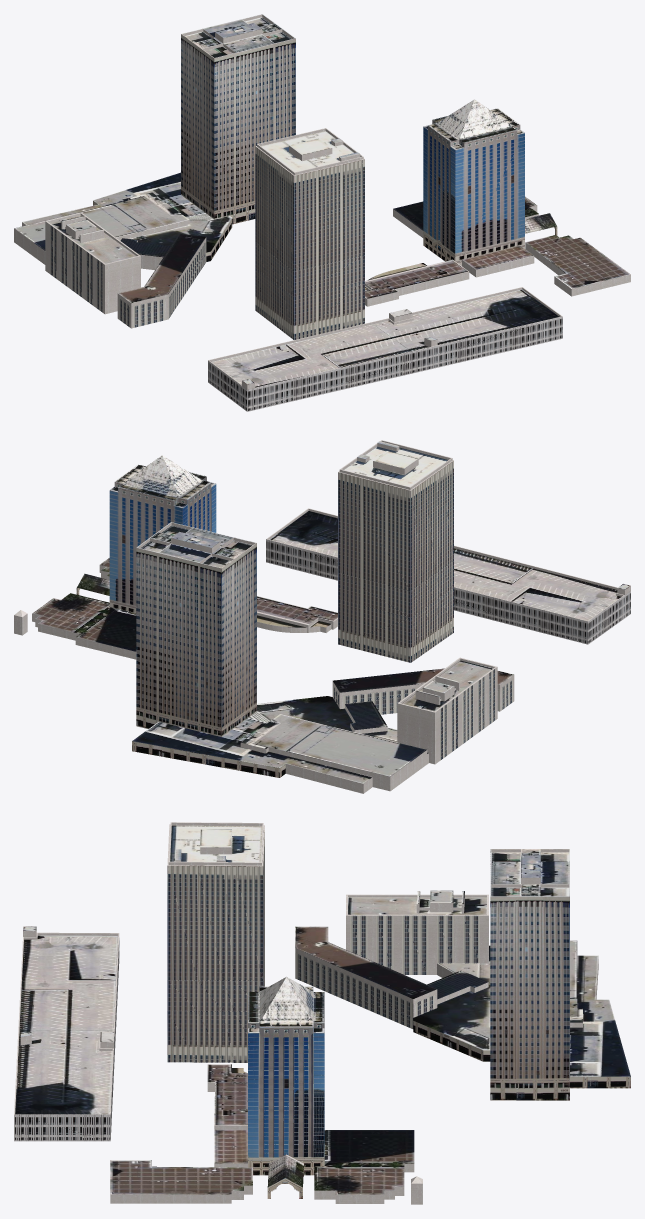
Rendered from Phoenix City Square.dae.
3 renders of one model, top to bottom at view 1: azimuth 30°, elevation 25°; view 2: azimuth 150°, elevation 25°; view 3: azimuth 270°, elevation 25°, orthographic. The views are drawn at different scales.
Parts seen in each view (by area): view 1: Model; view 2: Model; view 3: Model.
Boxes of the visible parts, <box> form: Model: <box>14,14,630,411</box>; Model: <box>14,440,630,793</box>; Model: <box>14,822,630,1204</box>.
Bounding box in the file's own units: 8859 × 9208 × 3478.
24 materials, 23 textured.
